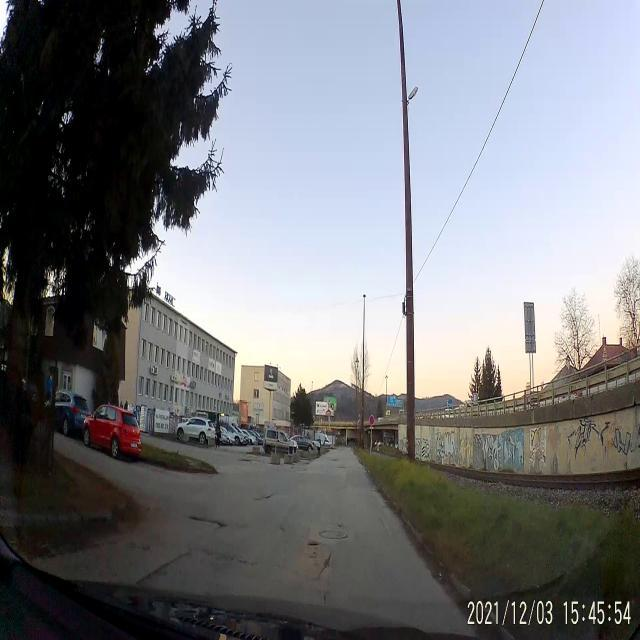Manhole: (317, 526, 348, 542)
Pothole: (185, 511, 228, 533), (317, 554, 333, 580), (306, 538, 321, 550), (253, 494, 273, 503)
